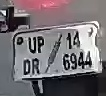1: (65, 34, 74, 50)
4: (76, 51, 87, 70), (73, 33, 82, 48), (85, 52, 92, 69)
6: (62, 55, 70, 71)
9: (69, 52, 77, 73)
D: (23, 58, 30, 76)
P: (37, 36, 45, 54)
R: (30, 58, 42, 74)
U: (28, 38, 38, 55)
